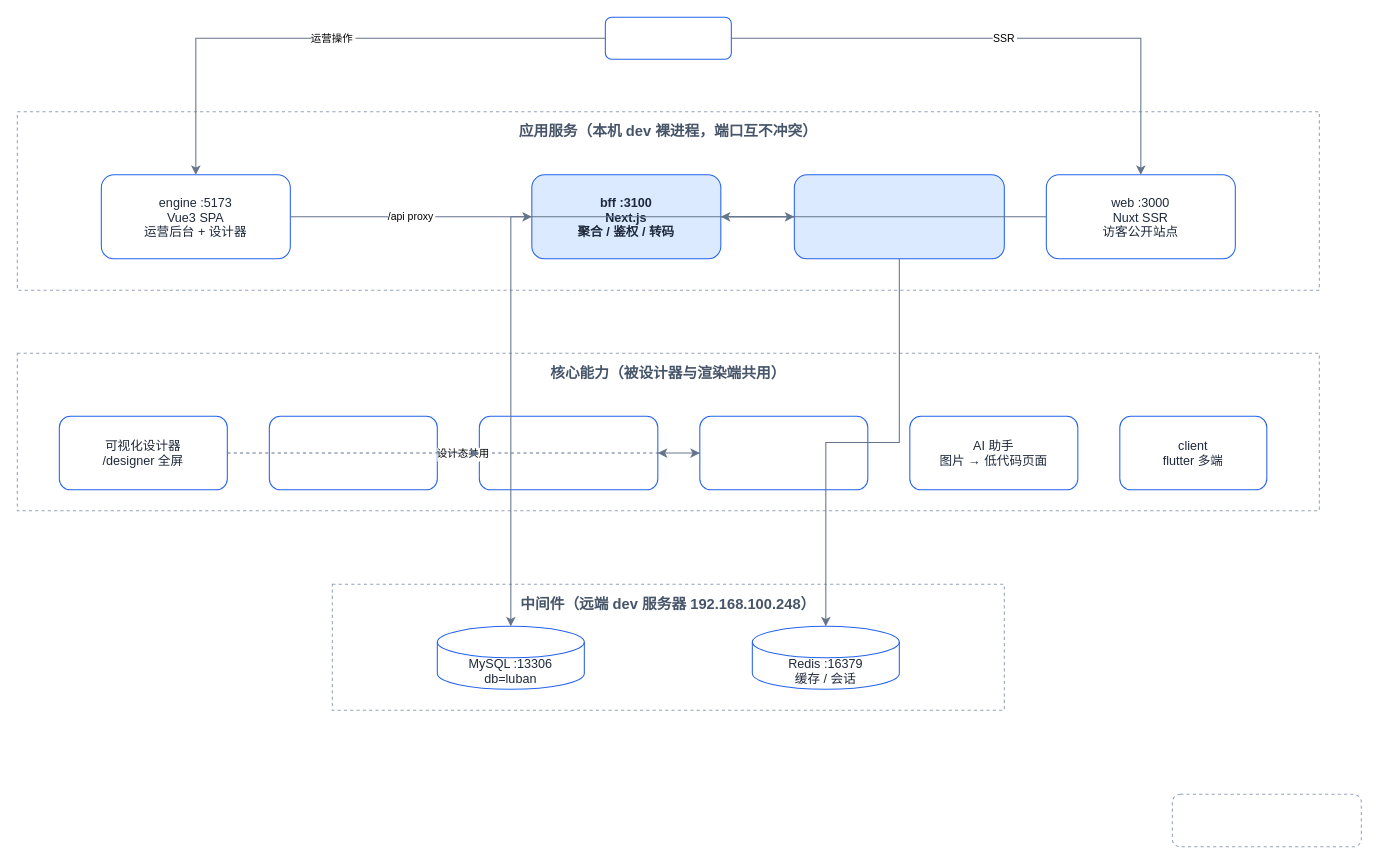
The diagram is 1379 pixels wide and 864 high, and some of its shapes have lost their labels. The centre of each missing label's shape, as x and y in pixels:
"backend :8080 Spring Boot 业务后端（唯一权威）" goes at (898,216).
"backend-go（Go 后端） 已废弃 DEPRECATED" goes at (1266,820).
"luban-ui 组件库 Vue3 + Storybook" goes at (783,452).
"Schema 体系 物料协议 + 版本治理" goes at (568,452).
"双渲染引擎 设计态 / 运行态" goes at (352,452).
"访客 / 运营" goes at (667,37).
